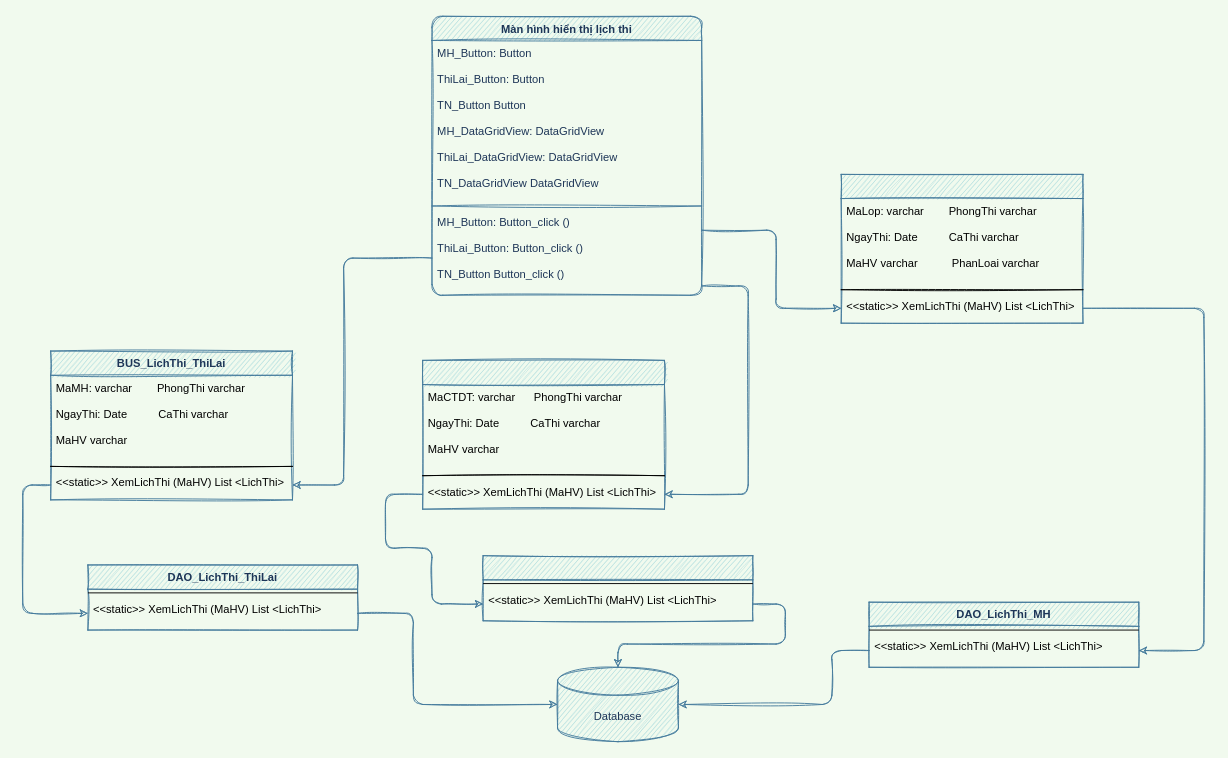
Some shapes in this 1228 by 758 pixel diagram are drawn without their labels. The shapes that lost their labels are listed below. From the top down, each one's box as (x1, y1, x2, y2) in pixels, then its label:
(840, 173, 1083, 323): BUS_LichThi_MH
(422, 359, 664, 509): BUS_LichThi_TN
(482, 555, 753, 621): DAO_LichThi_TN
